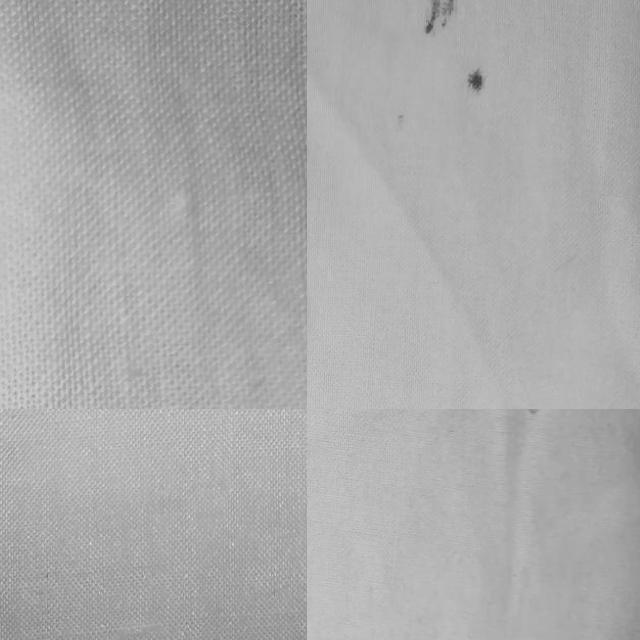Thread_other: (333, 0, 585, 190)
